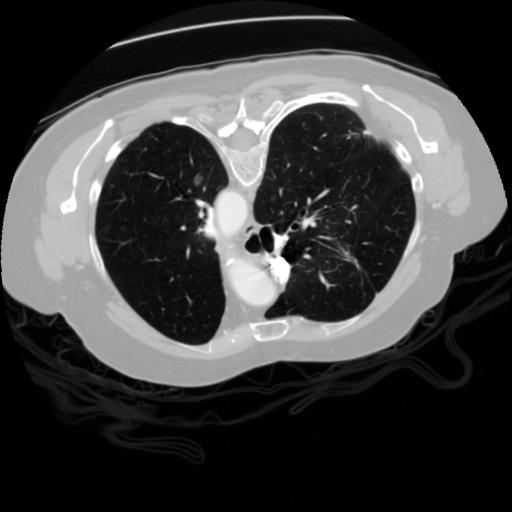nodule: (192, 174, 208, 190)
